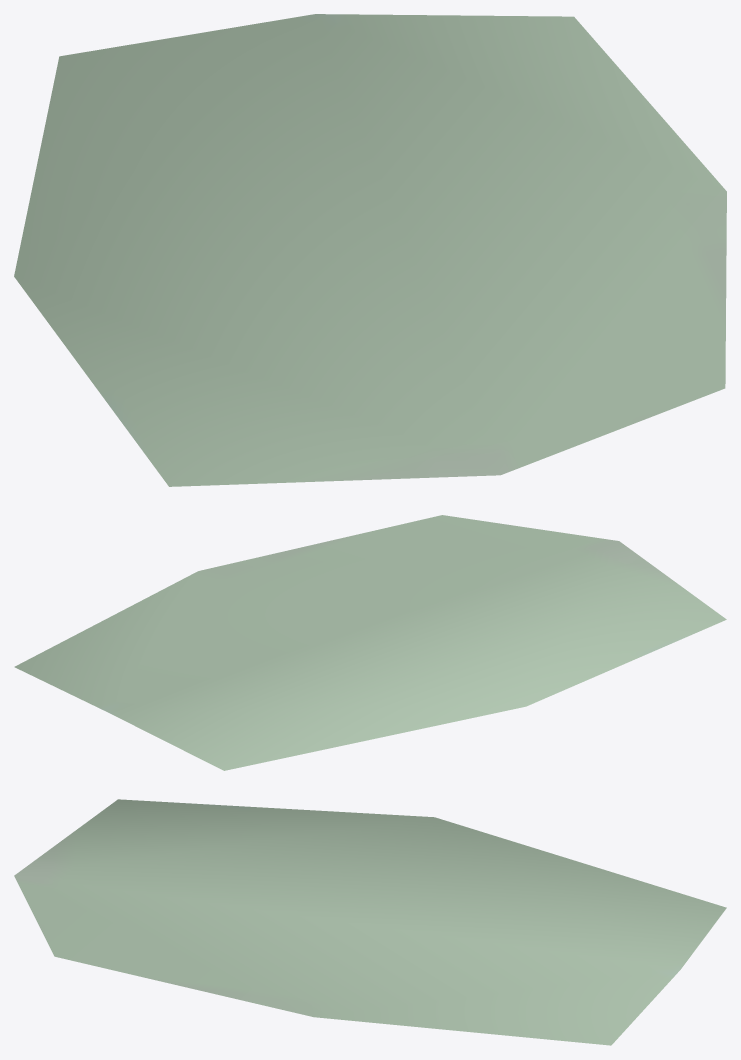
Rendered from TROLLHOLE02_HOLECAP148.fbx.
3 renders of one model, top to bottom at view 1: azimuth 30°, elevation 25°; view 2: azimuth 150°, elevation 25°; view 3: azimuth 270°, elevation 25°, orthographic. The views are drawn at different scales.
Parts seen in each view (by area): view 1: TROLLHOLE02_HOLECAP148; view 2: TROLLHOLE02_HOLECAP148; view 3: TROLLHOLE02_HOLECAP148.
Boxes of the visible parts, <box> form: TROLLHOLE02_HOLECAP148: <box>14,14,726,486</box>; TROLLHOLE02_HOLECAP148: <box>14,515,726,770</box>; TROLLHOLE02_HOLECAP148: <box>14,799,726,1045</box>.
Bounding box in the file's own units: 40220 × 1054 × 48311.
Materials: 1 (1 with a texture image).
